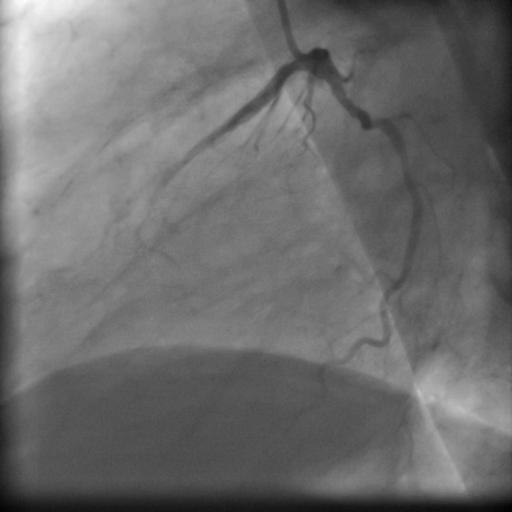Stenosis: (363, 104, 389, 137)
